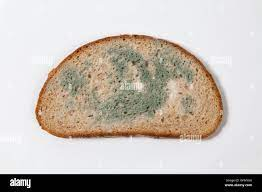mold_bread: (100, 38, 198, 121), (56, 56, 96, 110)
